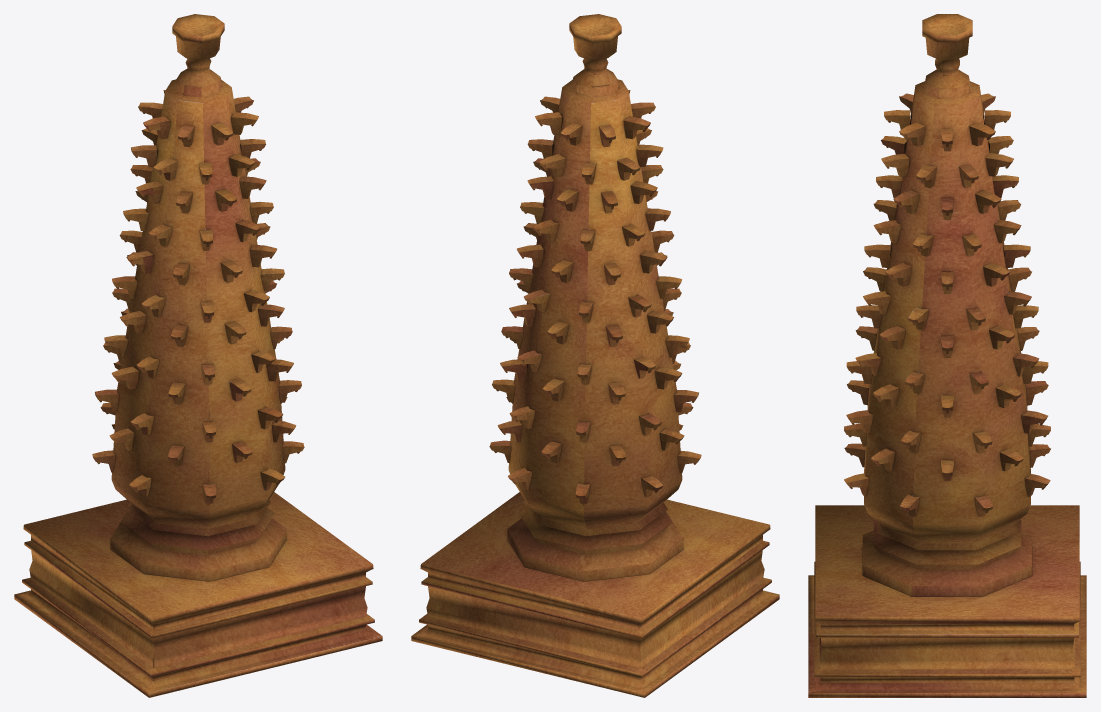
Rendered from spine-pillar.glb.
The picture shows the model from 3 angles, left to right: view 1: azimuth 30°, elevation 25°; view 2: azimuth 150°, elevation 25°; view 3: azimuth 270°, elevation 25°; orthographic projection. The views are drawn at different scales.
Parts seen in each view (by area): view 1: pillar-convcol; view 2: pillar-convcol; view 3: pillar-convcol.
Boxes of the visible parts, x1=… form: pillar-convcol: x1=14, y1=14, x2=382, y2=697; pillar-convcol: x1=411, y1=14, x2=779, y2=697; pillar-convcol: x1=808, y1=14, x2=1086, y2=697.
Bounding box in the file's own units: 1.24 × 3.01 × 1.24.
1 material, 1 textured.
